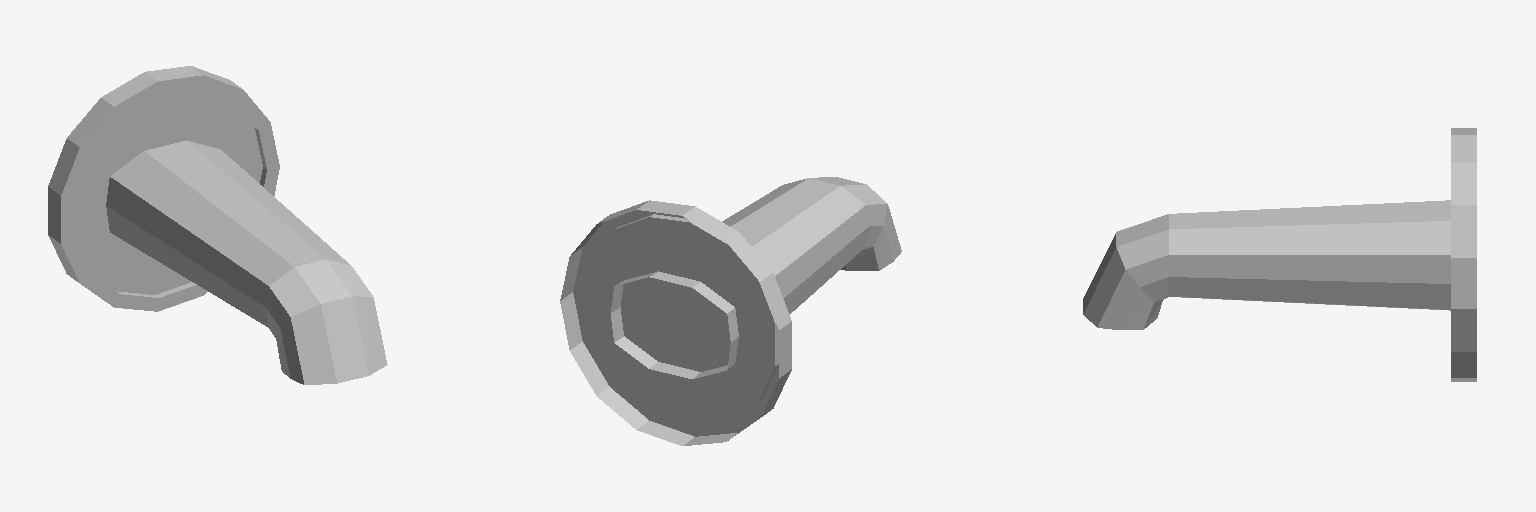
The model's file is bathtub_faucet_3.obj.
3 views of the same model, side by side, from view 1: azimuth 30°, elevation 25°; view 2: azimuth 150°, elevation 25°; view 3: azimuth 270°, elevation 25° (orthographic).
Bounding box in the file's own units: 2.24 × 2.25 × 3.49.